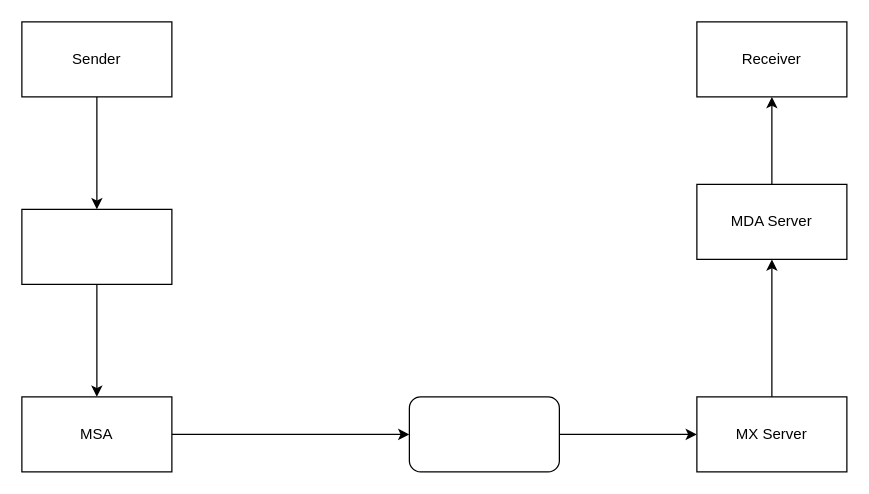
This 869x494 diagram has some shape labels left out. The centre of each missing label's shape, as x and y in pixels:
"MTA" goes at [483,434].
"MUA" goes at [96,246].
